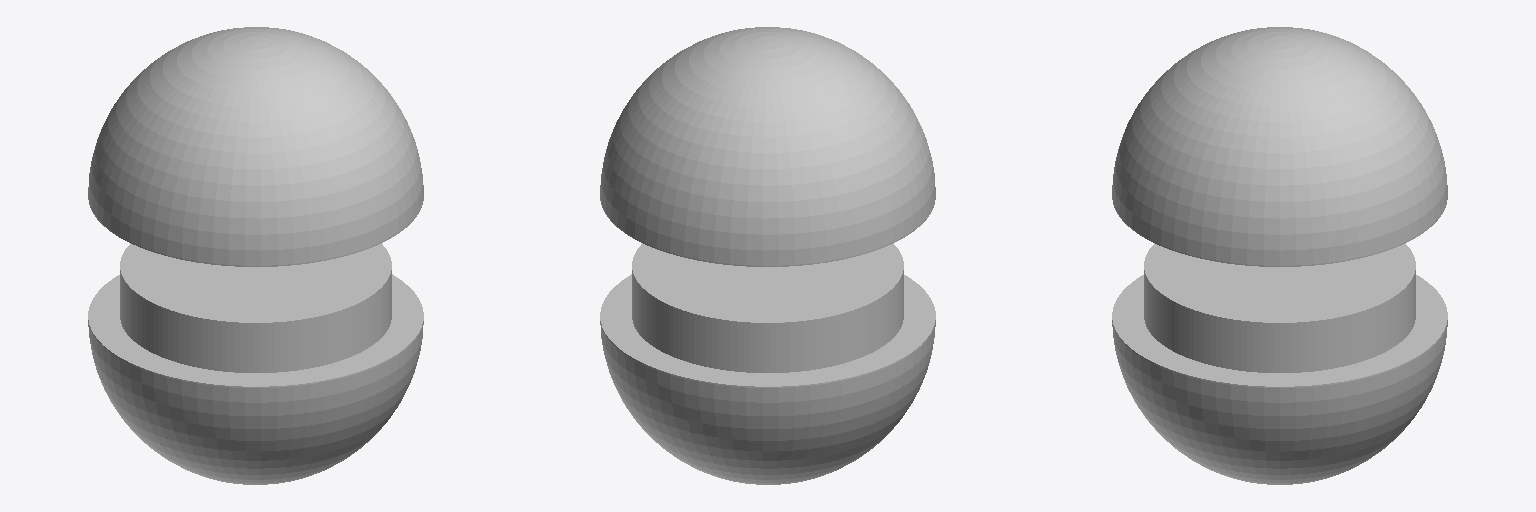
The model's file is droid_anim_000034.obj.
The picture shows the model from 3 angles: view 1: azimuth 30°, elevation 25°; view 2: azimuth 150°, elevation 25°; view 3: azimuth 270°, elevation 25°; orthographic projection.
Parts seen in each view (by area): view 1: Sphere.004, Sphere.005, Cylinder.002; view 2: Sphere.004, Sphere.005, Cylinder.002; view 3: Sphere.004, Sphere.005, Cylinder.002.
Part boxes in pixels (bbox=[...]): Sphere.004: bbox=[88, 27, 423, 266]; Sphere.005: bbox=[88, 274, 423, 484]; Cylinder.002: bbox=[120, 243, 391, 372]; Sphere.004: bbox=[600, 27, 935, 266]; Sphere.005: bbox=[600, 274, 935, 484]; Cylinder.002: bbox=[632, 243, 903, 372]; Sphere.004: bbox=[1112, 27, 1447, 266]; Sphere.005: bbox=[1112, 275, 1447, 484]; Cylinder.002: bbox=[1144, 243, 1415, 372].
Size of the model in its own units: 2 by 2.8 by 2.